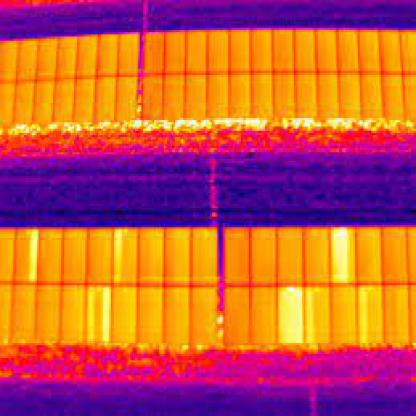Defects: (280, 285, 306, 341), (330, 232, 349, 284), (28, 232, 42, 288), (112, 228, 124, 289), (100, 287, 112, 341)
